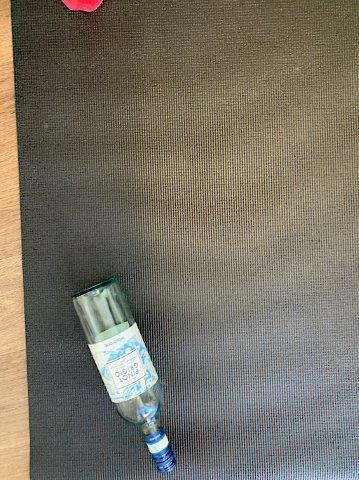botolkaca: (70, 279, 176, 472)
